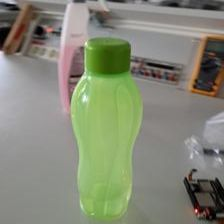bottle: (73, 35, 146, 218)
